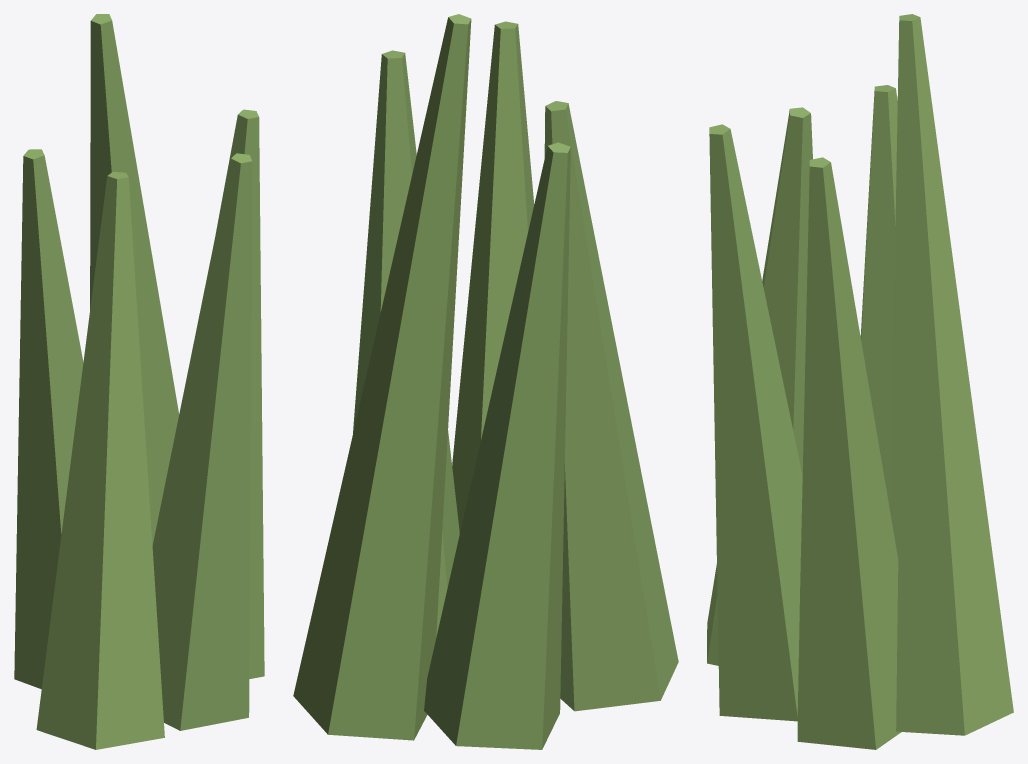
File: crop_grain_mature.glb
3 renders of one model, left to right at view 1: azimuth 30°, elevation 25°; view 2: azimuth 150°, elevation 25°; view 3: azimuth 270°, elevation 25°, orthographic. The views are drawn at different scales.
Visible parts, largest first — view 1: Cone.003, Cone.004, Cone.002, Cone.001, Cone; view 2: Cone.001, Cone.002, Cone.003, Cone.004, Cone; view 3: Cone.001, Cone, Cone.004, Cone.003, Cone.002.
Part boxes in pixels (bbox=[...]): Cone.003: bbox=[36, 172, 164, 749]; Cone.004: bbox=[152, 153, 252, 730]; Cone.002: bbox=[14, 149, 83, 689]; Cone.001: bbox=[90, 14, 179, 544]; Cone: bbox=[216, 109, 264, 678]; Cone.001: bbox=[293, 14, 471, 740]; Cone.002: bbox=[424, 142, 570, 749]; Cone.003: bbox=[544, 101, 678, 711]; Cone.004: bbox=[452, 21, 534, 533]; Cone: bbox=[353, 50, 459, 636]; Cone.001: bbox=[890, 14, 1013, 735]; Cone: bbox=[797, 157, 901, 749]; Cone.004: bbox=[709, 124, 802, 721]; Cone.003: bbox=[707, 107, 812, 665]; Cone.002: bbox=[860, 85, 897, 511].
Bounding box in the file's own units: 0.2605 × 0.6309 × 0.2615.
